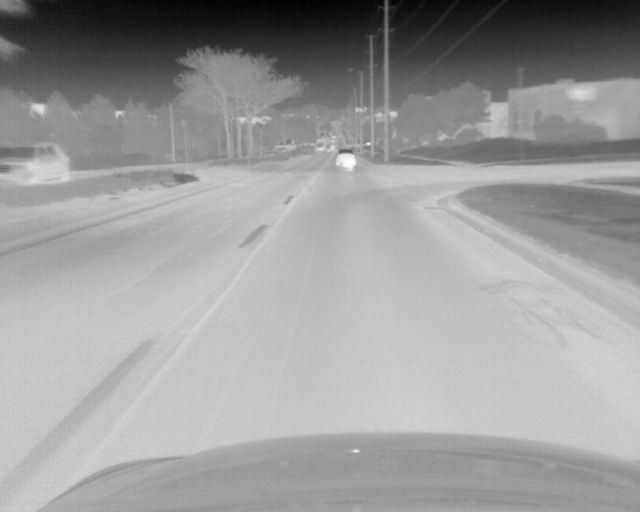car: (1, 141, 73, 187), (335, 149, 356, 169)
